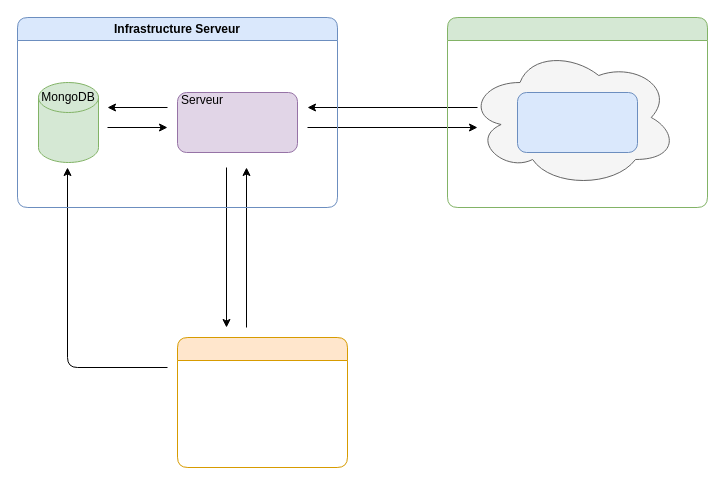
Image size: 725x485. Some labels were removed from this diagram. The shapes that lost their labels are listed below. From the top down, each one's centre as x and y in pixels, then its label:
At point 577,112: "API Tierce".
At point 262,402: "Clients".
